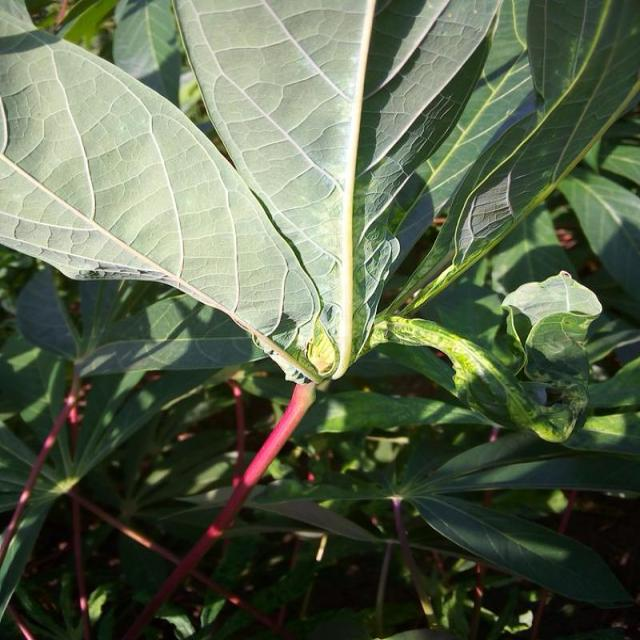cassava leaf: (170, 0, 505, 384), (2, 0, 322, 375)
